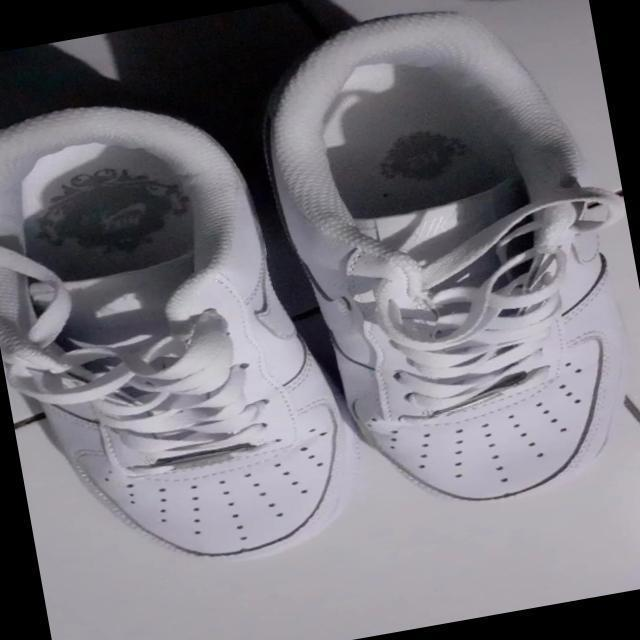nike fake air force: (244, 0, 640, 533), (0, 71, 366, 594)
